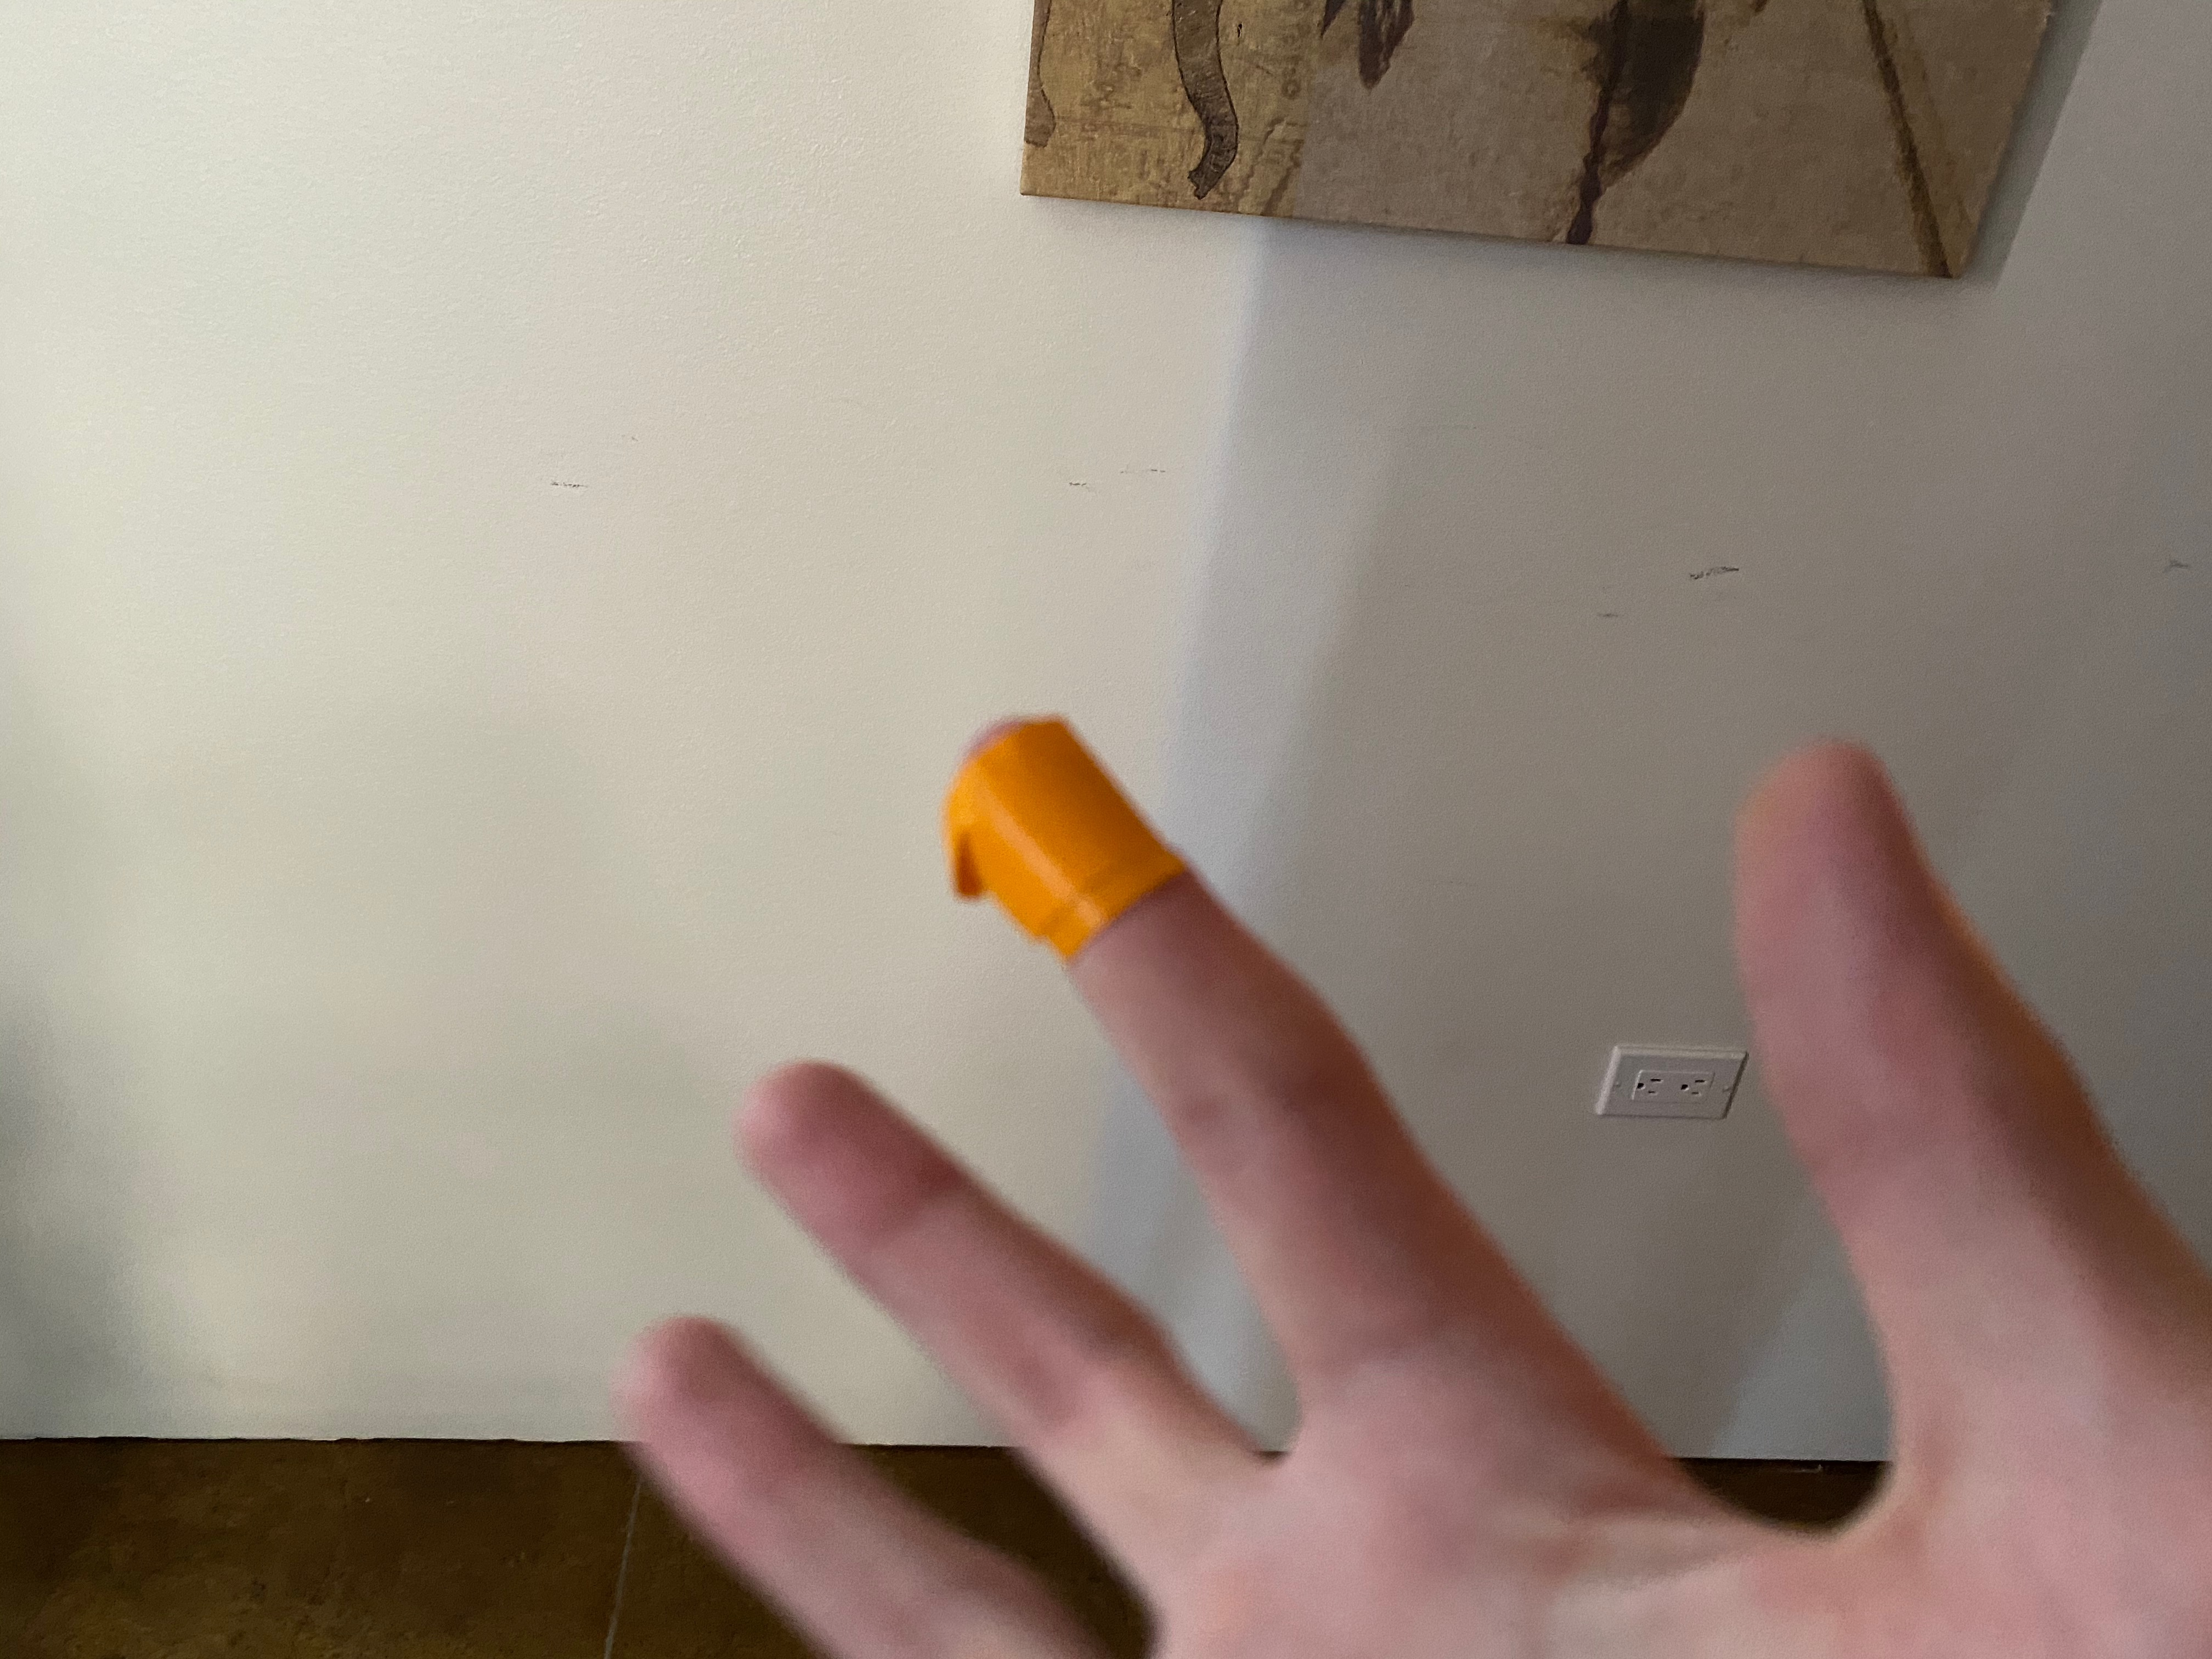fingertip: (928, 701, 1191, 962)
